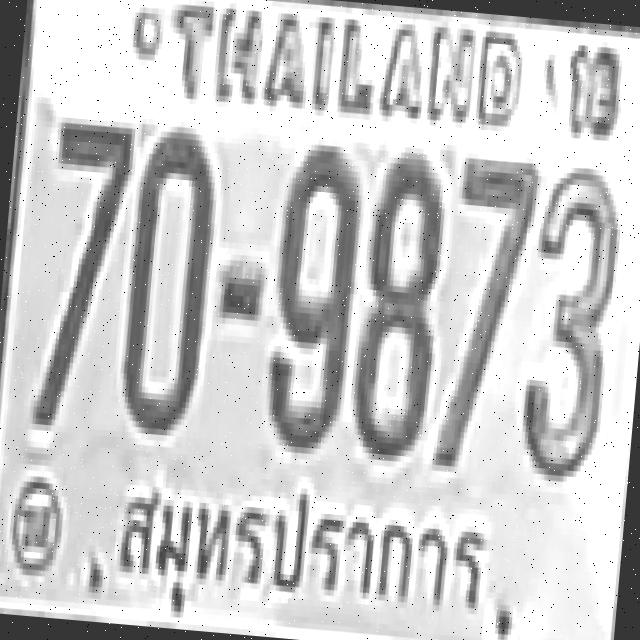0: (116, 118, 220, 432)
3: (513, 158, 624, 478)
7: (432, 151, 540, 471), (30, 110, 134, 430)
8: (346, 144, 446, 458)
9: (259, 136, 363, 450)
SamutPrakan: (103, 459, 502, 638)
